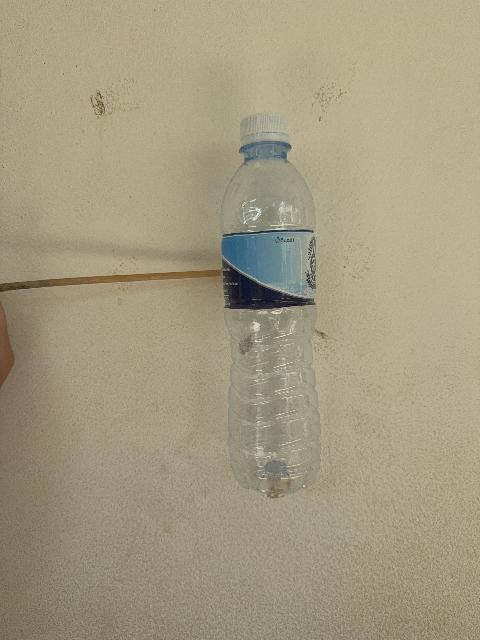bottle: (222, 113, 320, 497)
